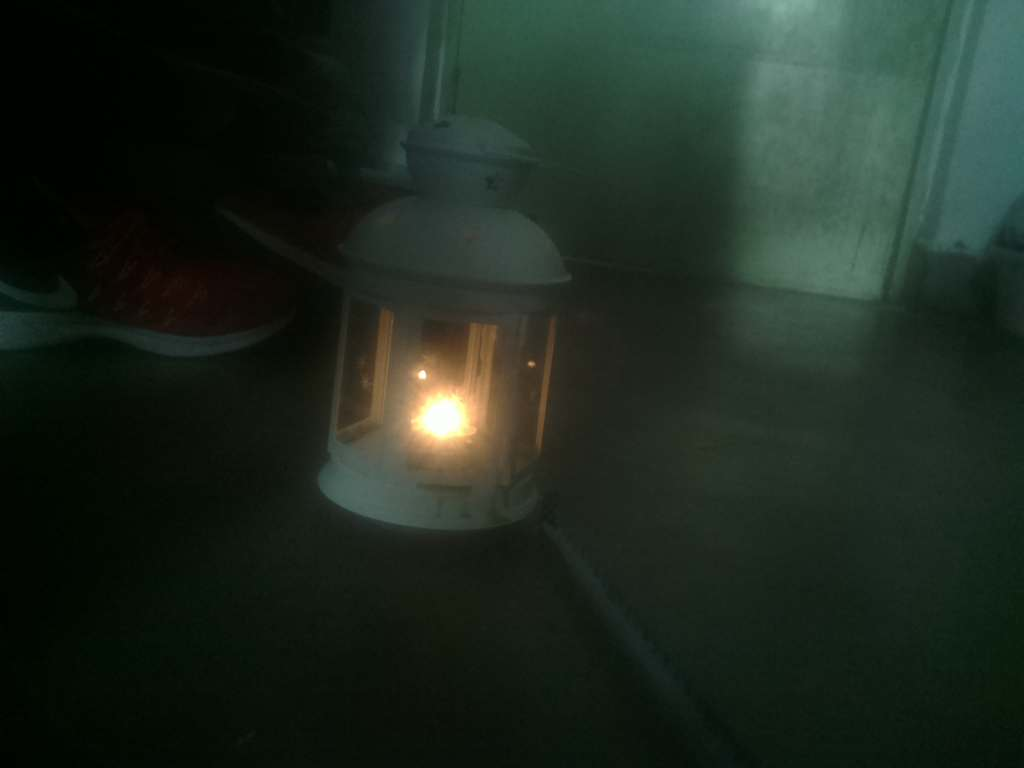fire: (390, 364, 531, 472)
